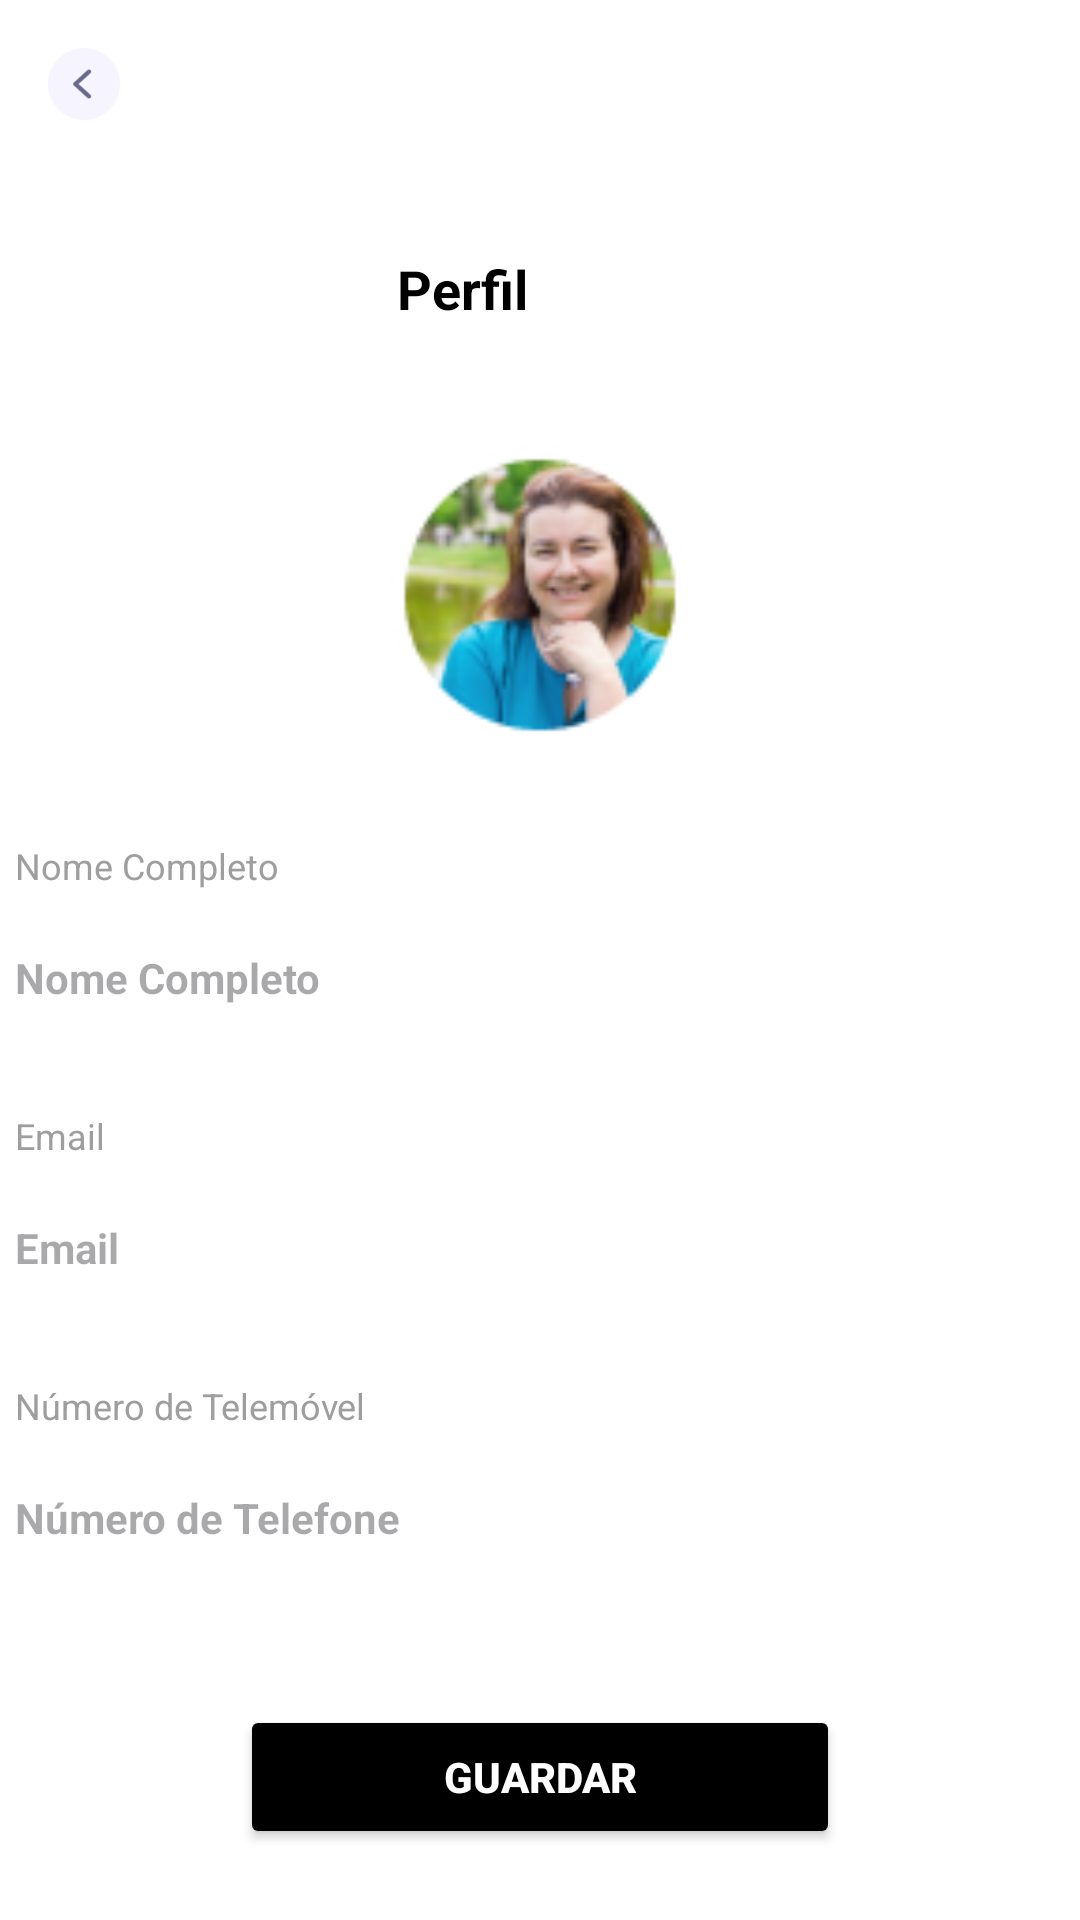

Where icons sit on this 1080 x 1920 app screen, as BBox(x1, y1, x2, y2):
Back: BBox(48, 48, 120, 120)
